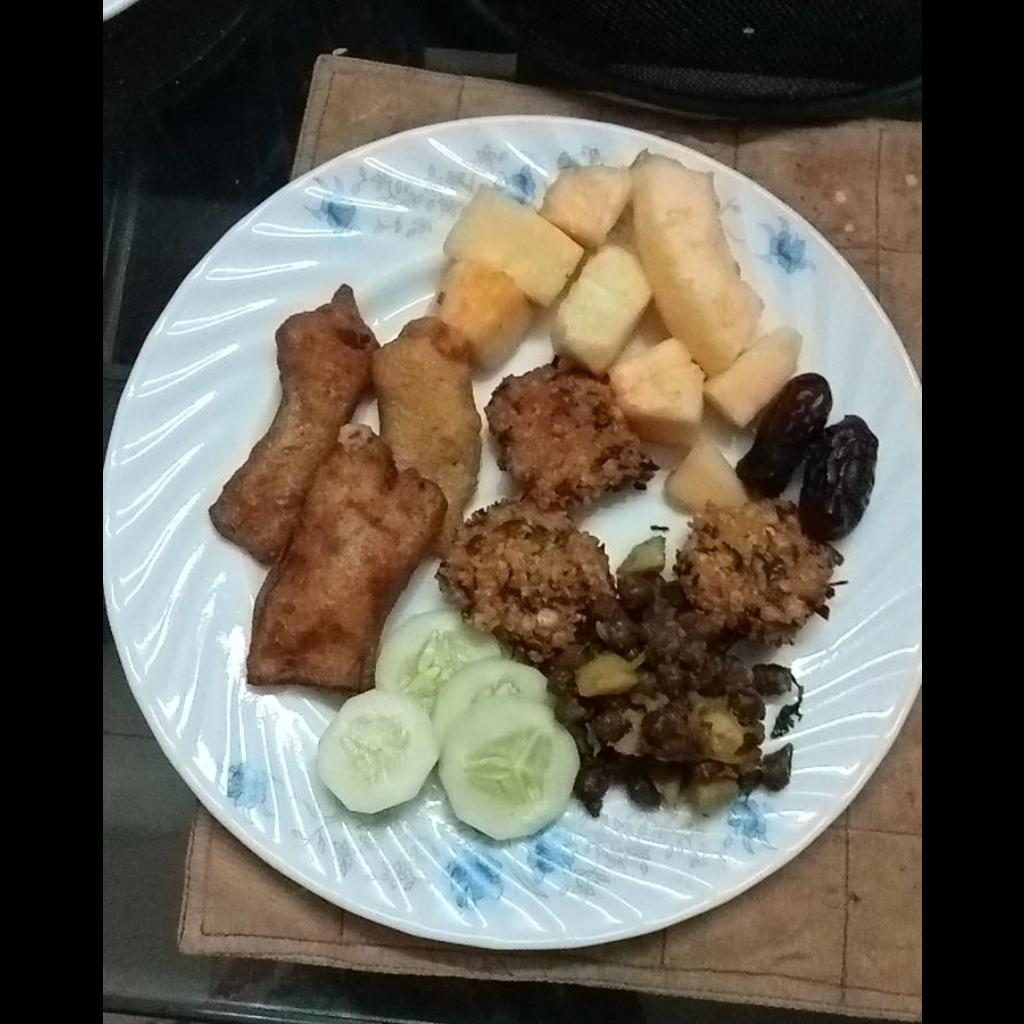beguni: (209, 284, 480, 689)
chola: (558, 546, 805, 820)
cucumber: (319, 612, 581, 837)
dates: (740, 369, 878, 544)
peyaju: (435, 359, 844, 642)
watermelon: (436, 151, 805, 447)
